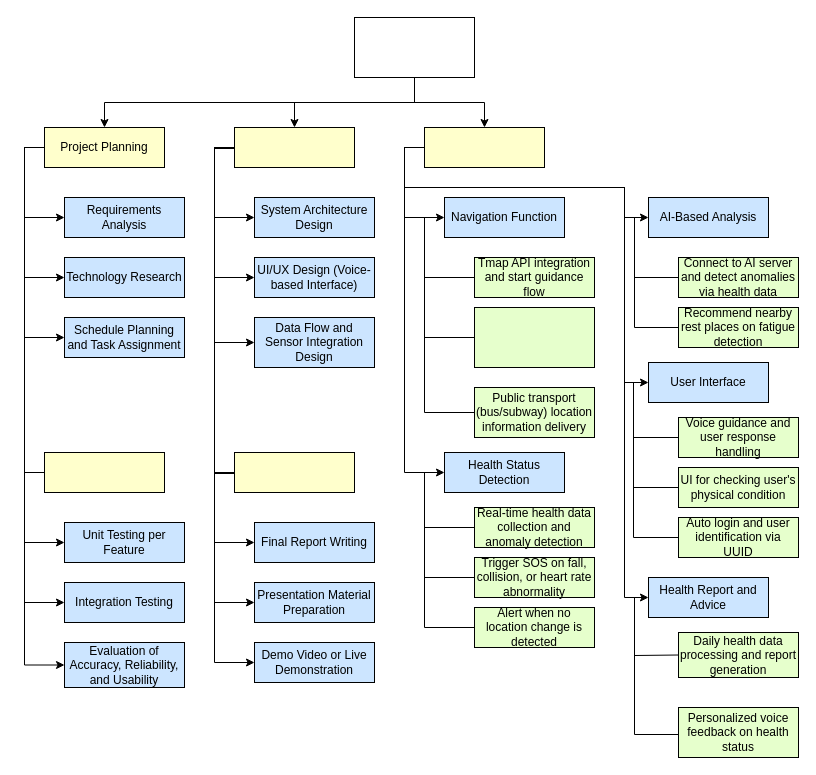
Image size: 816x775. Some labels were removed from this diagram. The box of each missing label's shape, as (x1, y1, x2, y2) in pixels:
Development: (424, 126, 544, 168)
Documentation and Presentation: (234, 452, 354, 492)
System Design: (234, 126, 354, 168)
Testing and Evaluation: (44, 452, 164, 492)
Voice-based destination recognition and route search: (474, 306, 594, 368)
WayVi: (354, 16, 474, 78)
